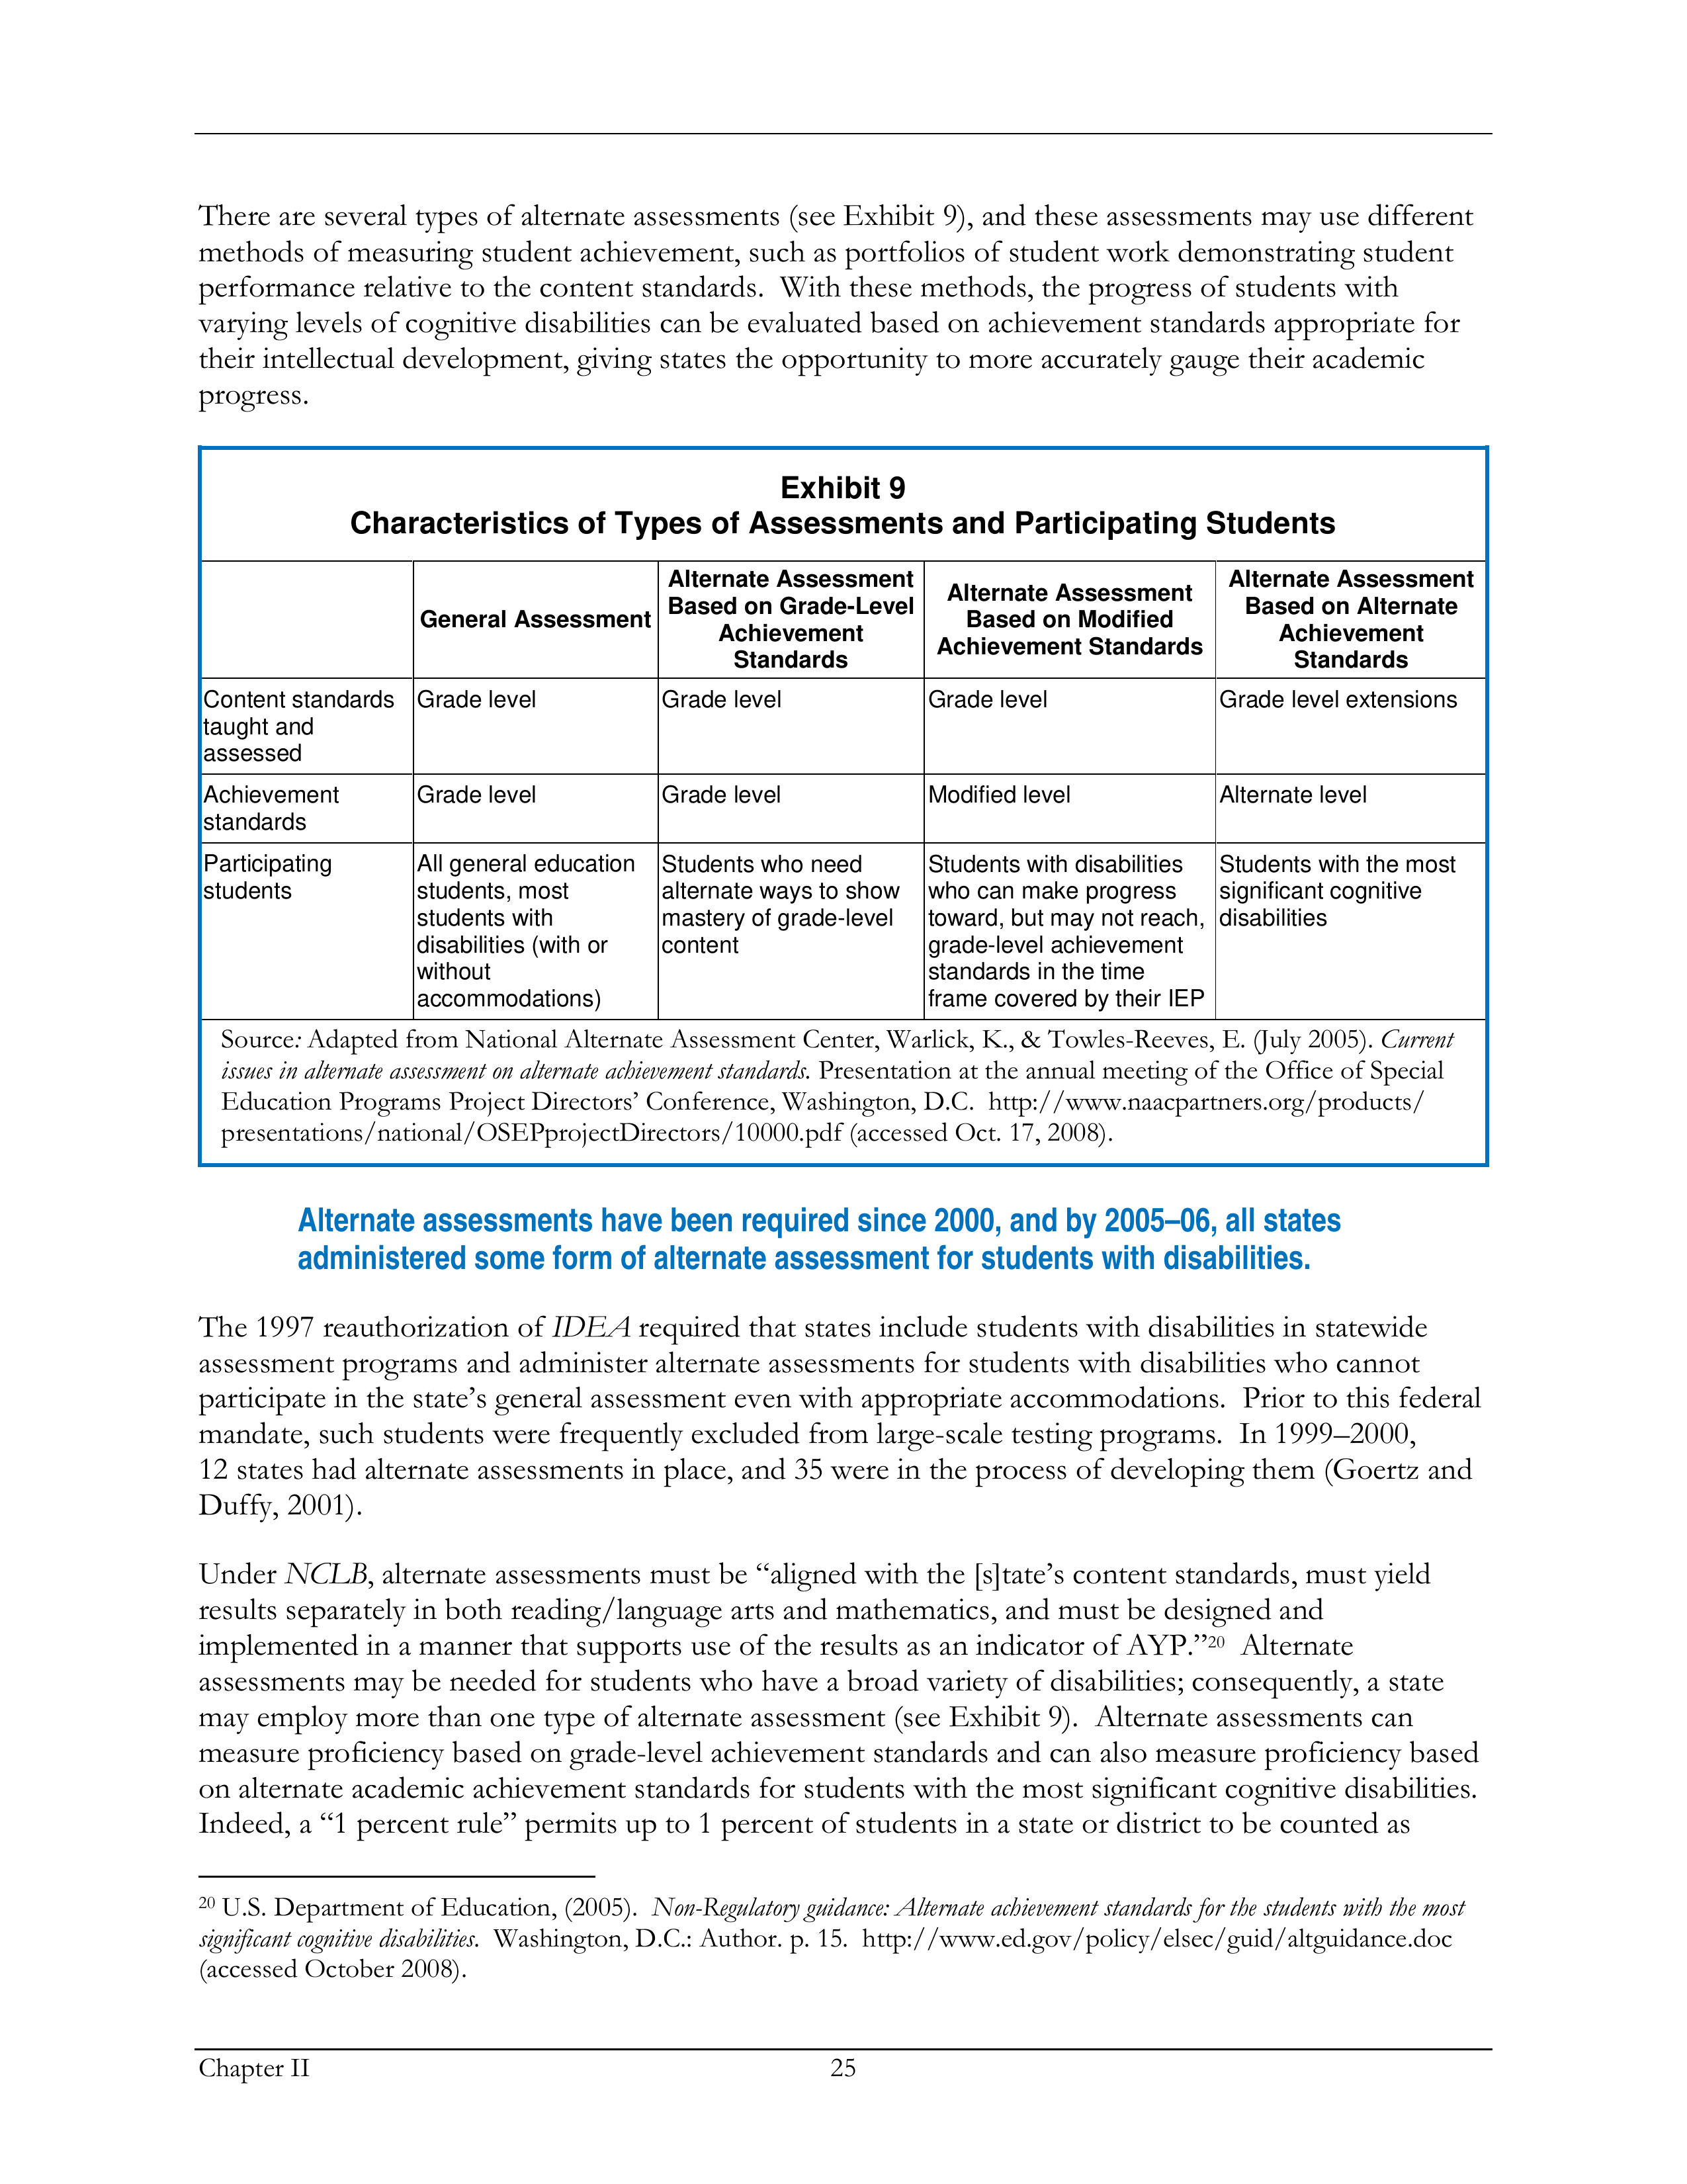table: (197, 558, 1490, 1020)
